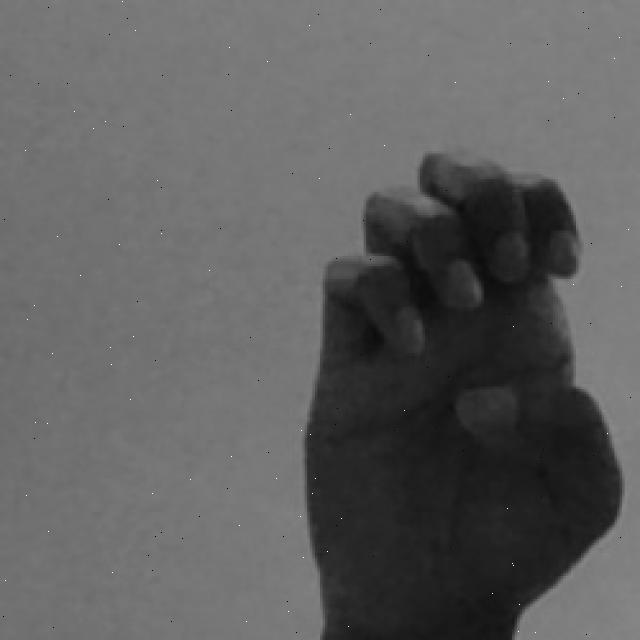E: (301, 151, 626, 640)
